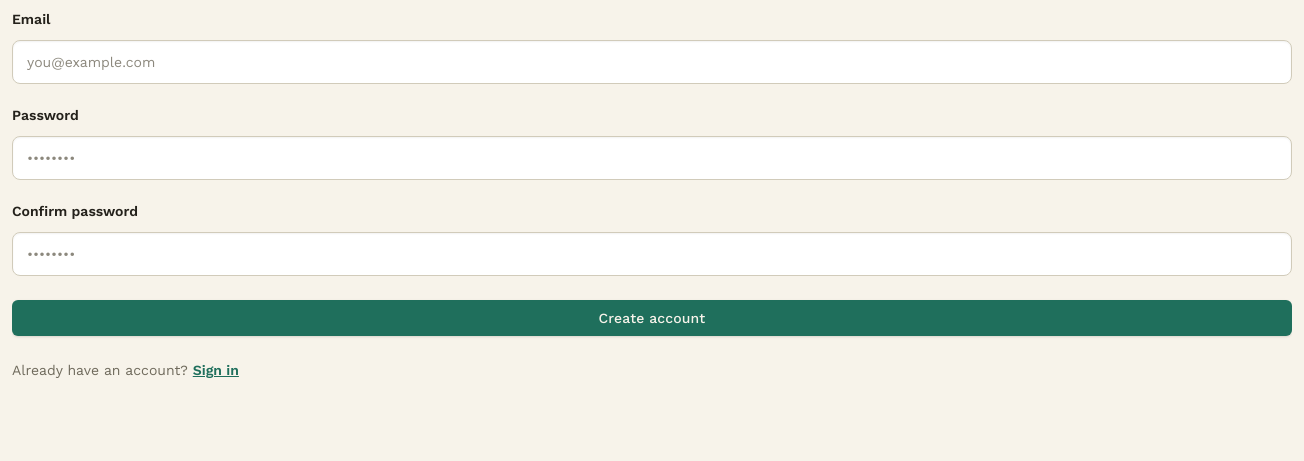
RegisterForm › blocks submission when password confirmation does not match
Type "test@example.com" into the field labelled "Email" at (652, 62), box [12,40,1292,84]
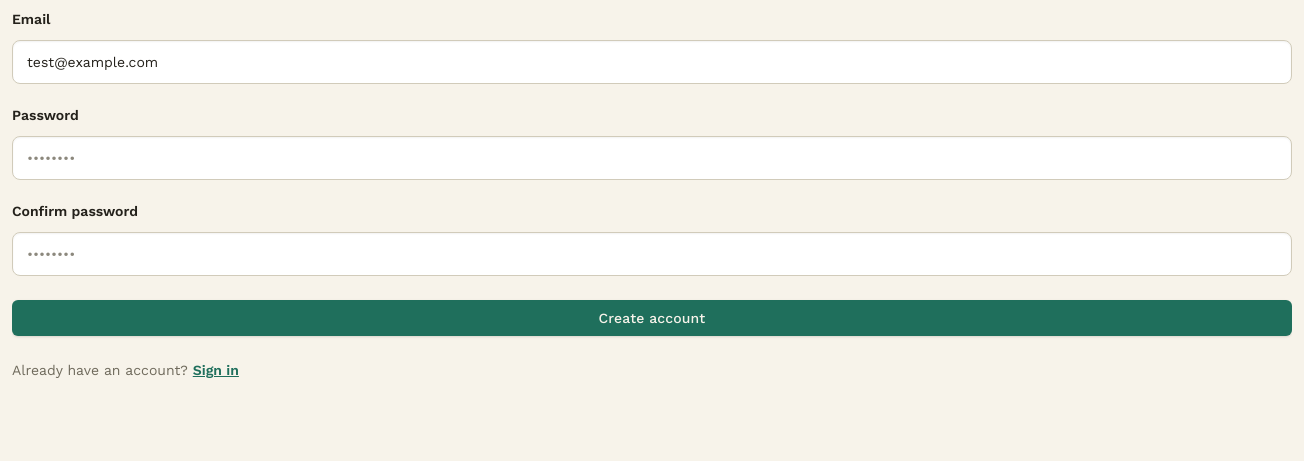
Type "Correct-horse1" into the password field labelled "Password" at (652, 158), box [12,136,1292,180]
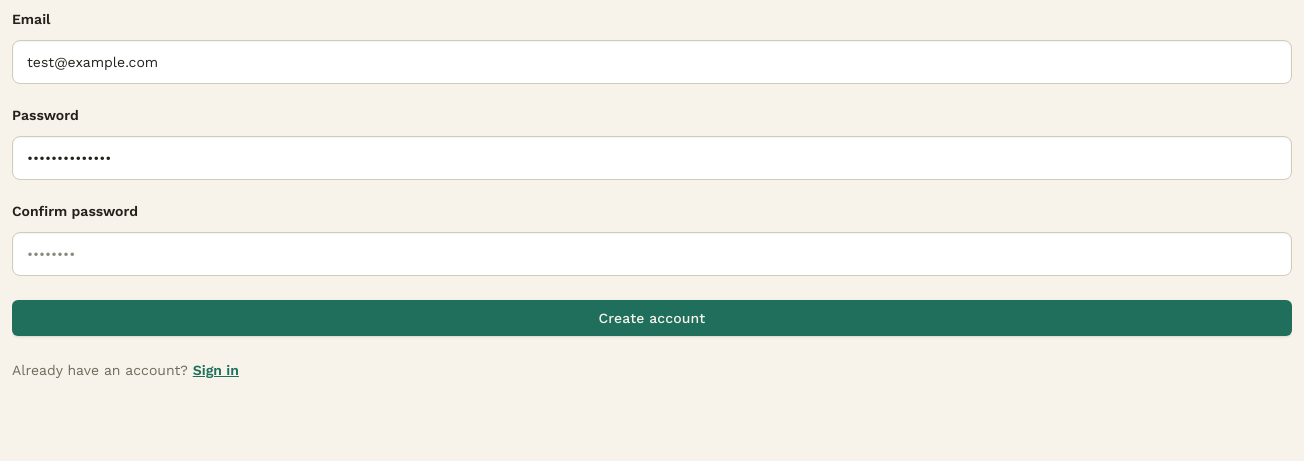
Type "Different-horse2" into the password field labelled "Confirm password" at (652, 254), box [12,232,1292,276]
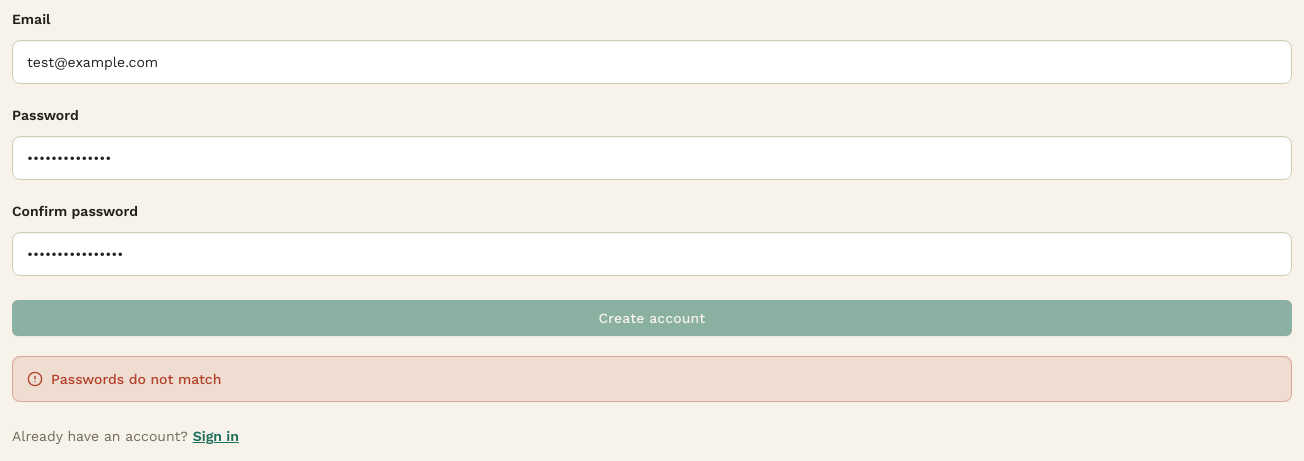
Expected: the text "Passwords do not match" is shown, [51,369,221,389]
Expected: the button "Create account" is disabled, [12,300,1292,336]
